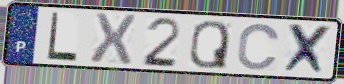2: (141, 16, 182, 69)
C: (235, 21, 283, 72)
L: (45, 11, 80, 64)
Q: (187, 19, 231, 71)
X: (280, 21, 334, 77), (87, 11, 138, 66)
